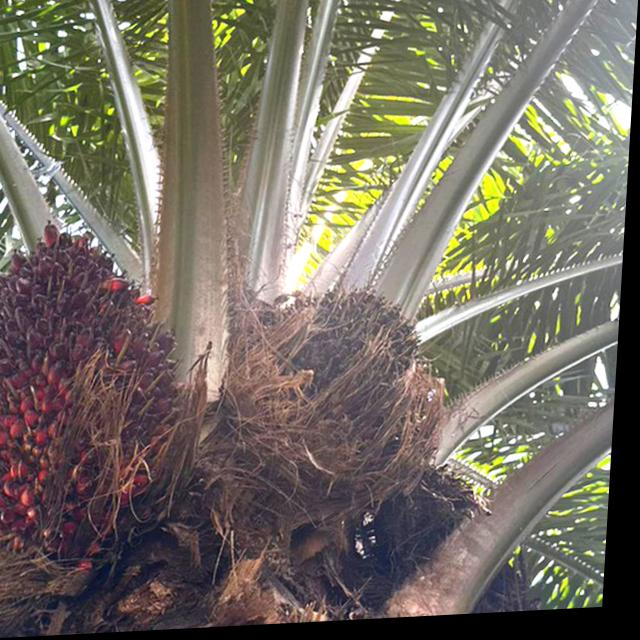unripe: (0, 208, 211, 557), (226, 272, 441, 480)
